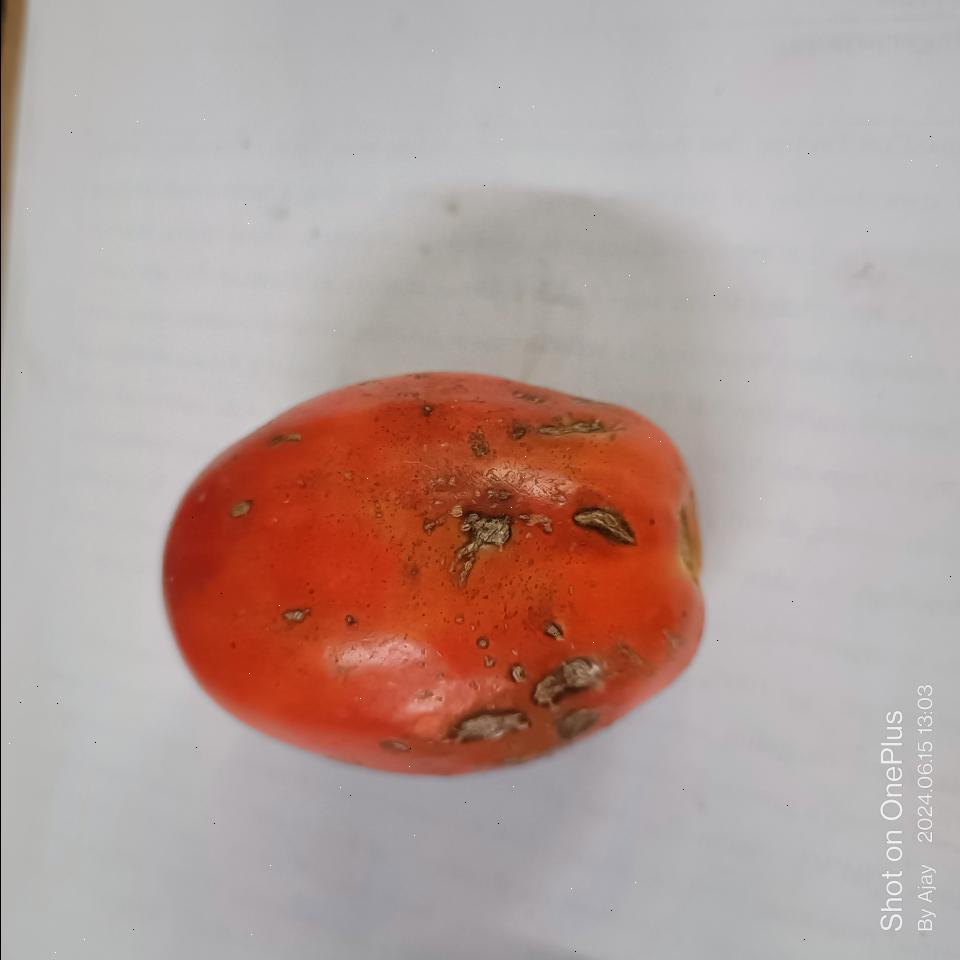Bacterial_Spot: (444, 502, 514, 578), (441, 702, 527, 756), (532, 653, 595, 711), (573, 506, 636, 552), (538, 420, 616, 440), (466, 428, 490, 458), (270, 432, 302, 448), (283, 607, 308, 623), (229, 501, 251, 518), (510, 662, 526, 684), (508, 428, 524, 444), (546, 626, 564, 640), (476, 637, 489, 651), (344, 614, 354, 626), (454, 614, 463, 624)
